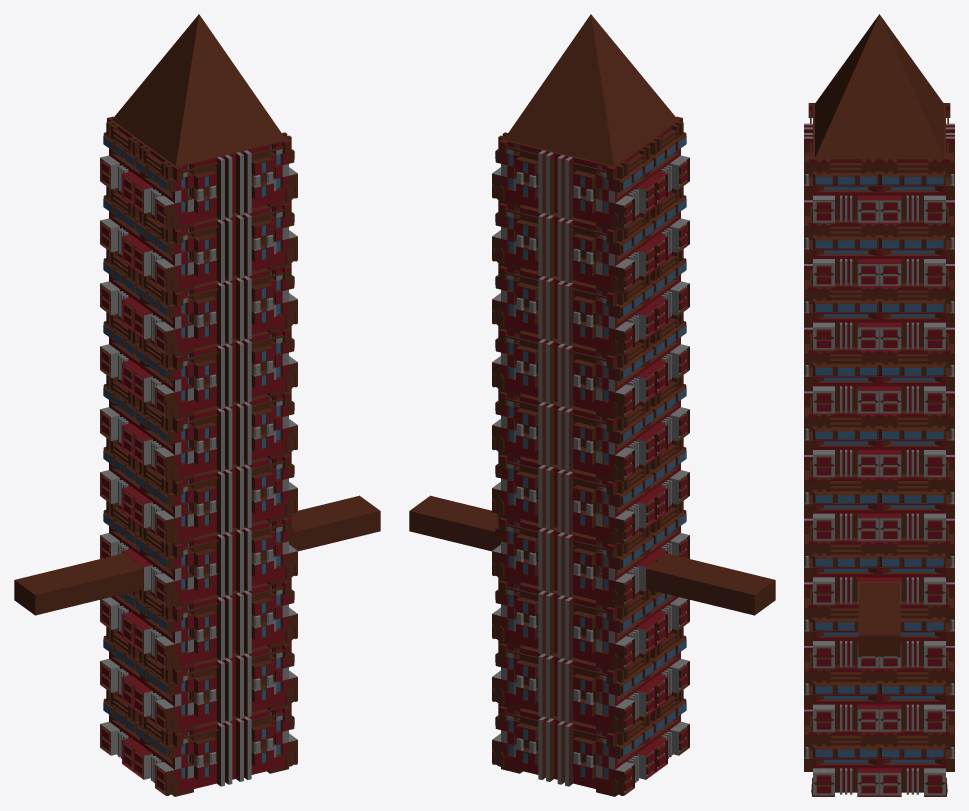
File: rakieta_2-0_kolory__inne_obrot_o_90.fbx
3 views of the same model, side by side, from view 1: azimuth 30°, elevation 25°; view 2: azimuth 150°, elevation 25°; view 3: azimuth 270°, elevation 25° (orthographic).
Visible parts, largest first — view 1: Cube; view 2: Cube; view 3: Cube.
Part boxes in pixels (bbox=[...]): Cube: bbox=[14, 14, 380, 796]; Cube: bbox=[409, 14, 775, 796]; Cube: bbox=[804, 14, 954, 796].
Size of the model in its own units: 605 by 1248 by 226.
